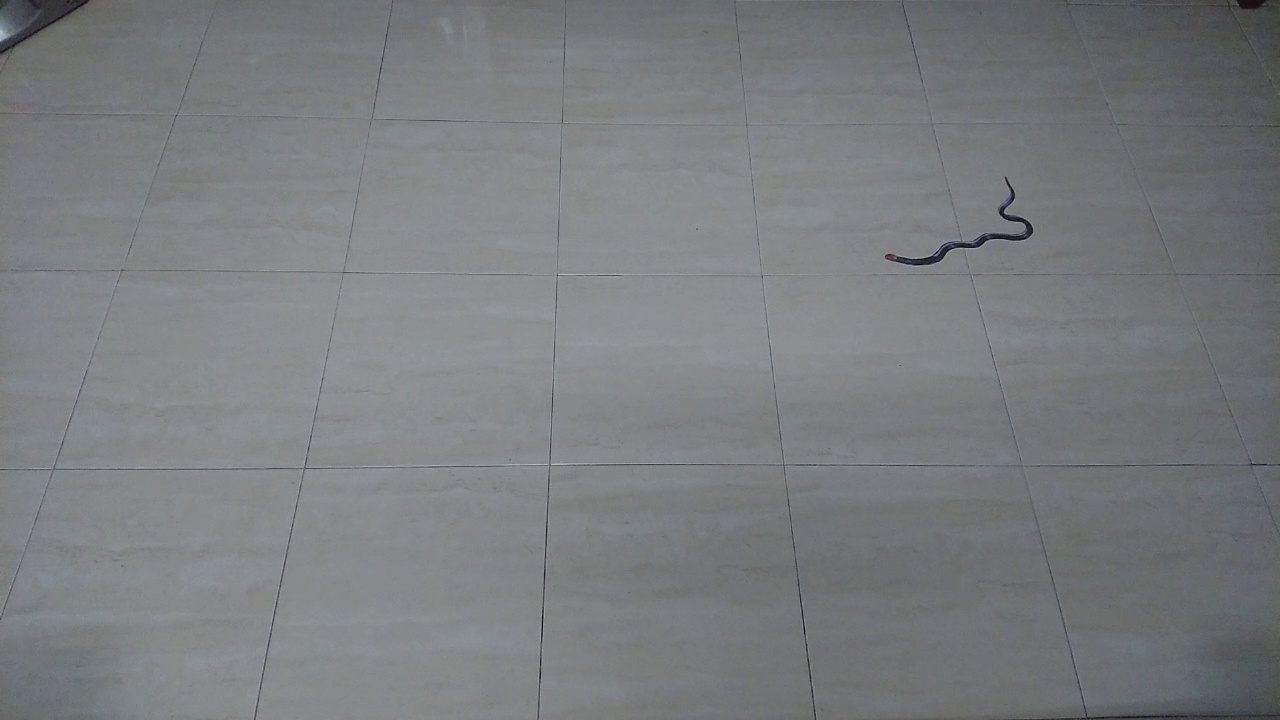snake: (873, 167, 1040, 276)
